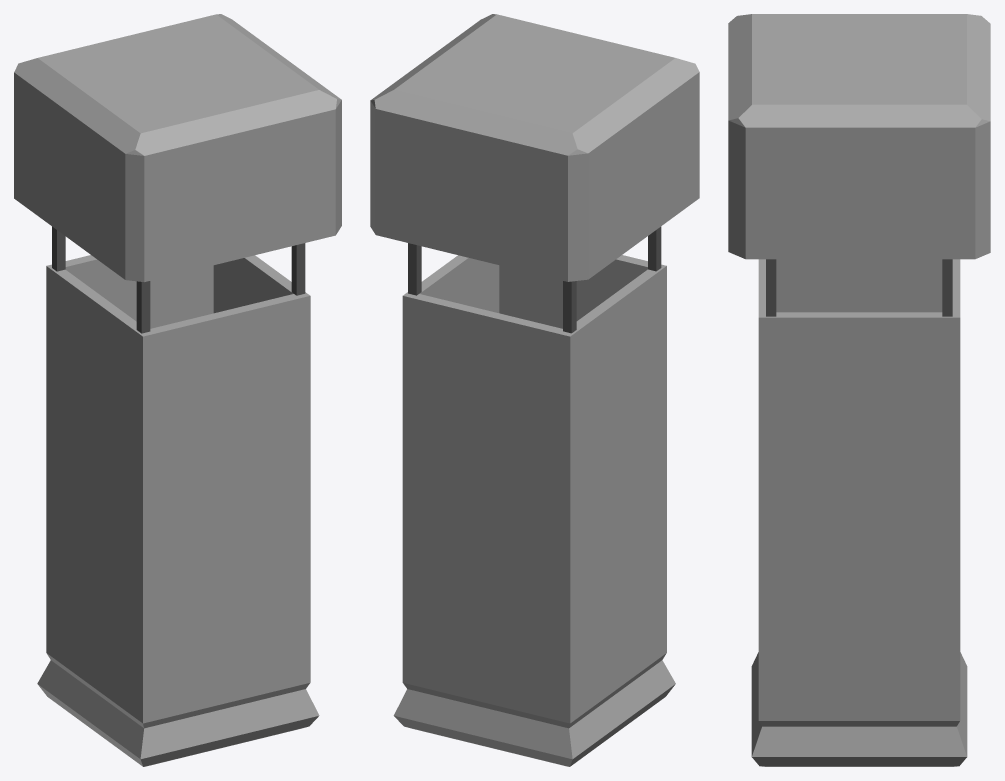
File: GREEN RECYCLE BIN.004_Material.057.glb
3 views of the same model, side by side, from view 1: azimuth 30°, elevation 25°; view 2: azimuth 150°, elevation 25°; view 3: azimuth 270°, elevation 25° (orthographic). The views are drawn at different scales.
Parts seen in each view (by area): view 1: GREEN RECYCLE BIN.004_Material.057_0; view 2: GREEN RECYCLE BIN.004_Material.057_0; view 3: GREEN RECYCLE BIN.004_Material.057_0.
Part boxes in pixels (x1,y1,x2,y2): GREEN RECYCLE BIN.004_Material.057_0: [14, 14, 341, 766]; GREEN RECYCLE BIN.004_Material.057_0: [370, 14, 699, 766]; GREEN RECYCLE BIN.004_Material.057_0: [728, 14, 990, 766].
Size of the model in its own units: 0.0958 by 0.2694 by 0.0958.
Materials: 1 (1 with a texture image).
